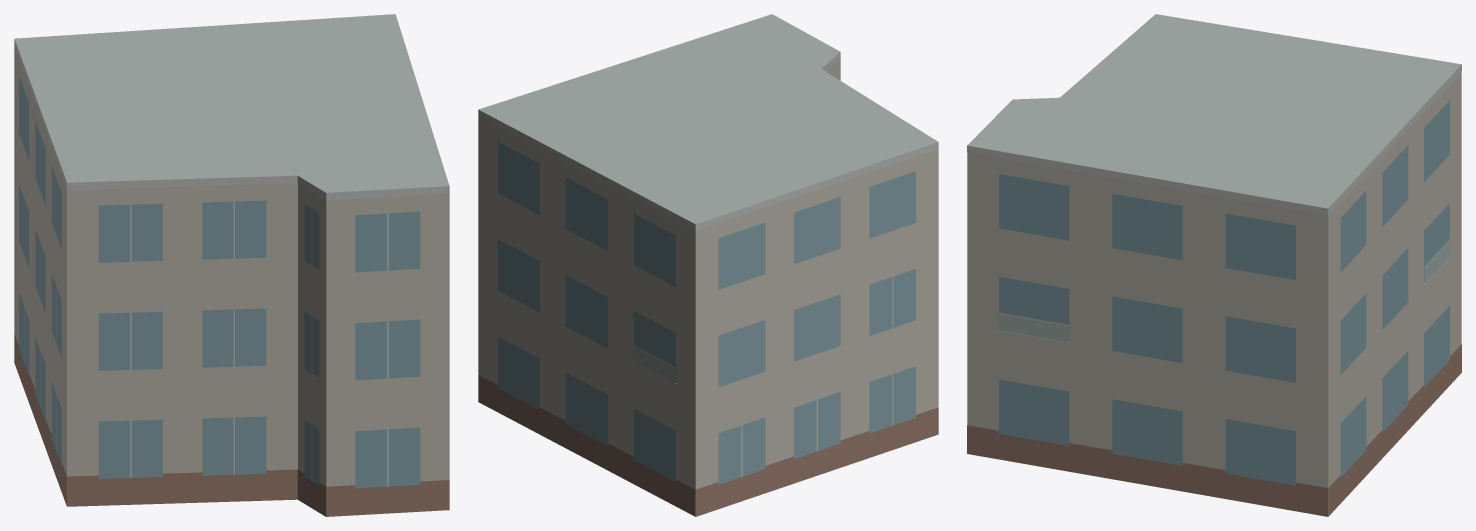
Rendered from survey-upis-33021067.glb.
3 views of the same model, side by side, from view 1: azimuth 30°, elevation 25°; view 2: azimuth 150°, elevation 25°; view 3: azimuth 270°, elevation 25° (orthographic). The views are drawn at different scales.
Parts seen in each view (by area): view 1: survey-upis-33021067.tmp; view 2: survey-upis-33021067.tmp; view 3: survey-upis-33021067.tmp.
Part boxes in pixels (box(x1,y1,x2,y2)): survey-upis-33021067.tmp: box(14, 14, 449, 516); survey-upis-33021067.tmp: box(478, 14, 938, 516); survey-upis-33021067.tmp: box(967, 14, 1461, 516).
Bounding box in the file's own units: 14.23 × 10.5 × 15.28.
